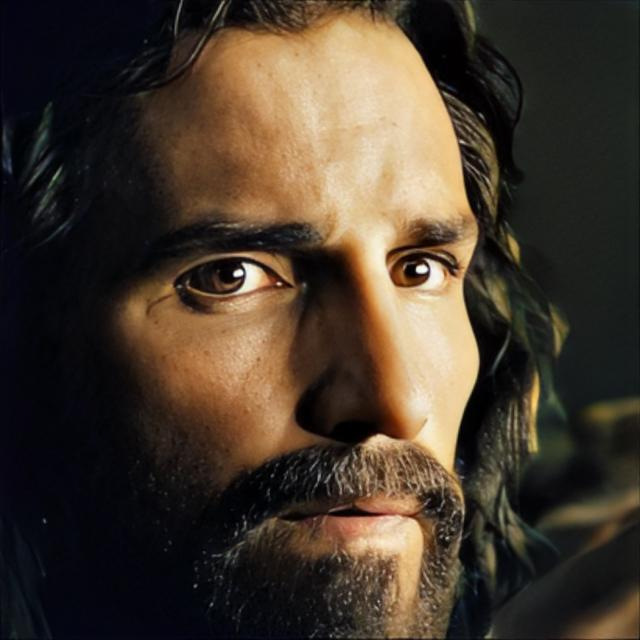anger: (110, 33, 490, 640)
